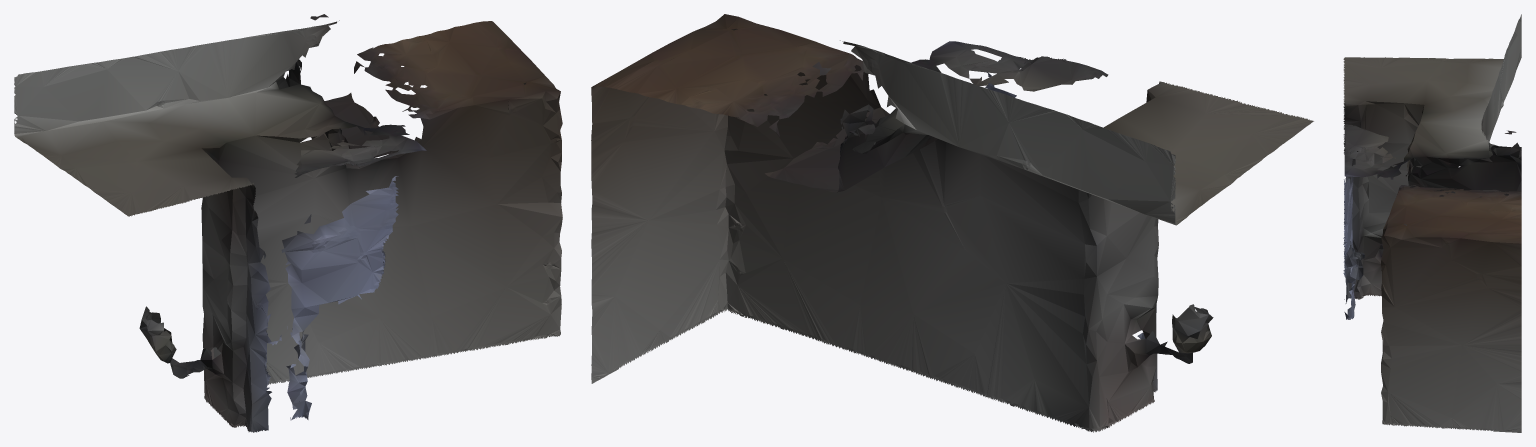
File: coarse.glb
3 renders of one model, left to right at view 1: azimuth 30°, elevation 25°; view 2: azimuth 150°, elevation 25°; view 3: azimuth 270°, elevation 25°, orthographic. The views are drawn at different scales.
Size of the model in its own units: 2.83 by 1.73 by 1.17.
